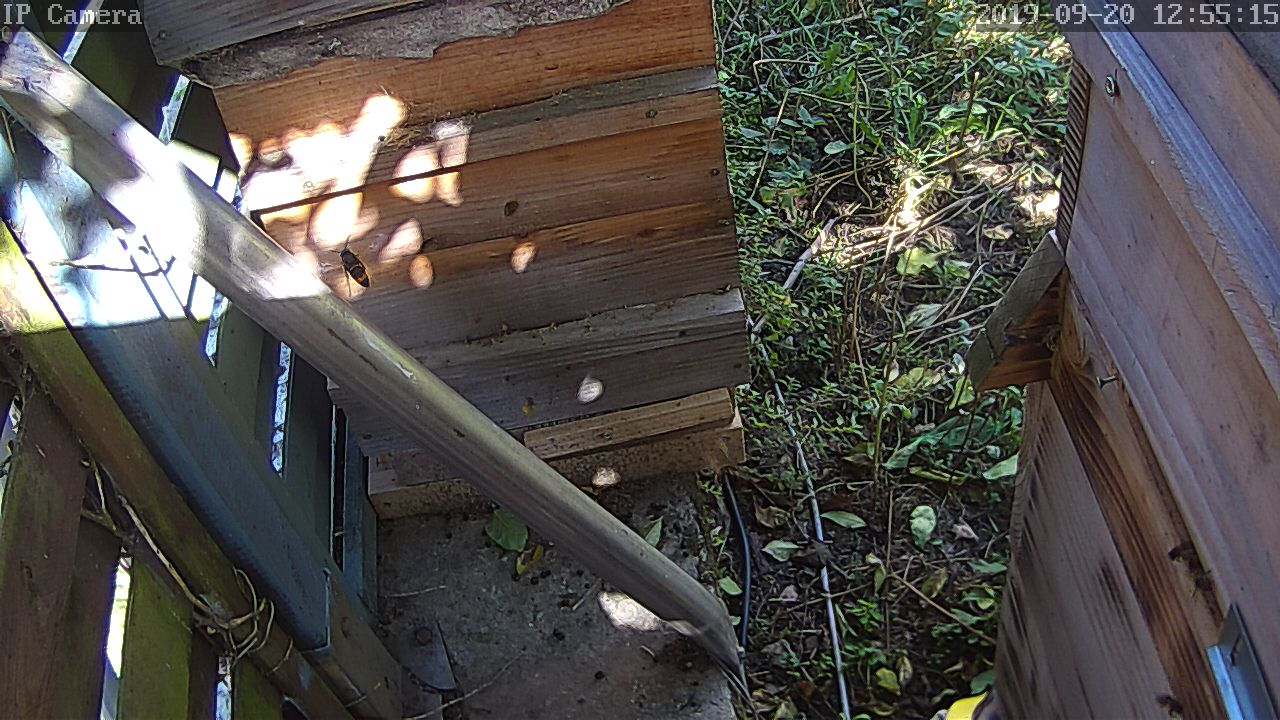bee: (1182, 567, 1221, 603), (1166, 533, 1205, 568), (1150, 692, 1190, 718)
hornet: (329, 244, 377, 292)
